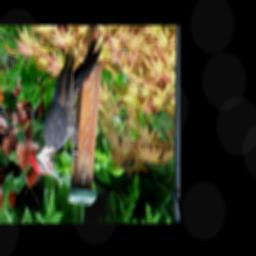Woodpecker: (28, 35, 104, 183)
